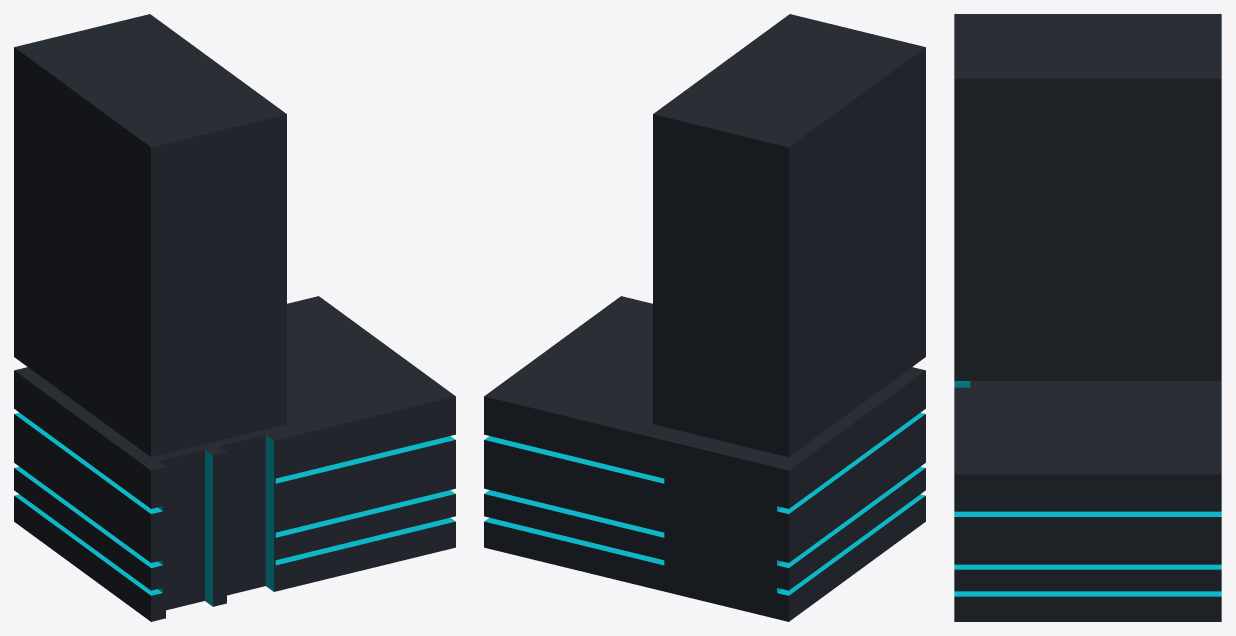
File: Building05.fbx
The picture shows the model from 3 angles, left to right: view 1: azimuth 30°, elevation 25°; view 2: azimuth 150°, elevation 25°; view 3: azimuth 270°, elevation 25°; orthographic projection. The views are drawn at different scales.
Visible parts, largest first — view 1: Box060; view 2: Box060; view 3: Box060.
Part boxes in pixels (bbox=[...]): Box060: bbox=[14, 14, 455, 621]; Box060: bbox=[484, 14, 925, 621]; Box060: bbox=[954, 14, 1221, 621].
Size of the model in its own units: 128 by 191 by 99.98.
